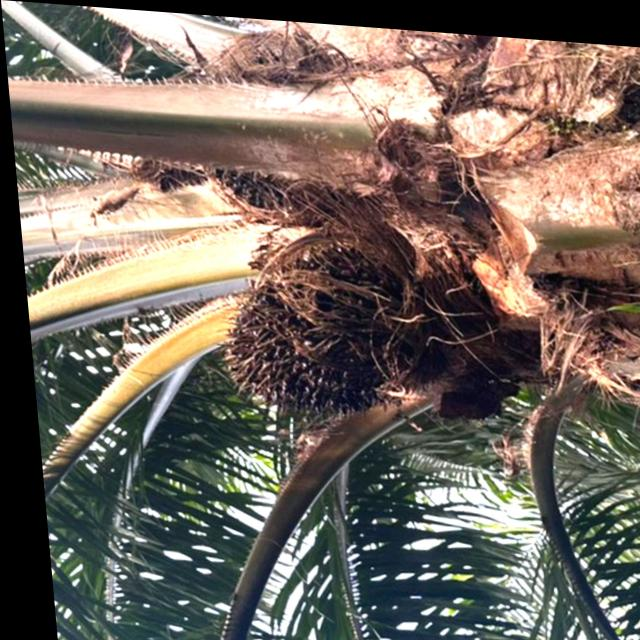almost: (203, 226, 421, 424), (173, 13, 363, 221)
